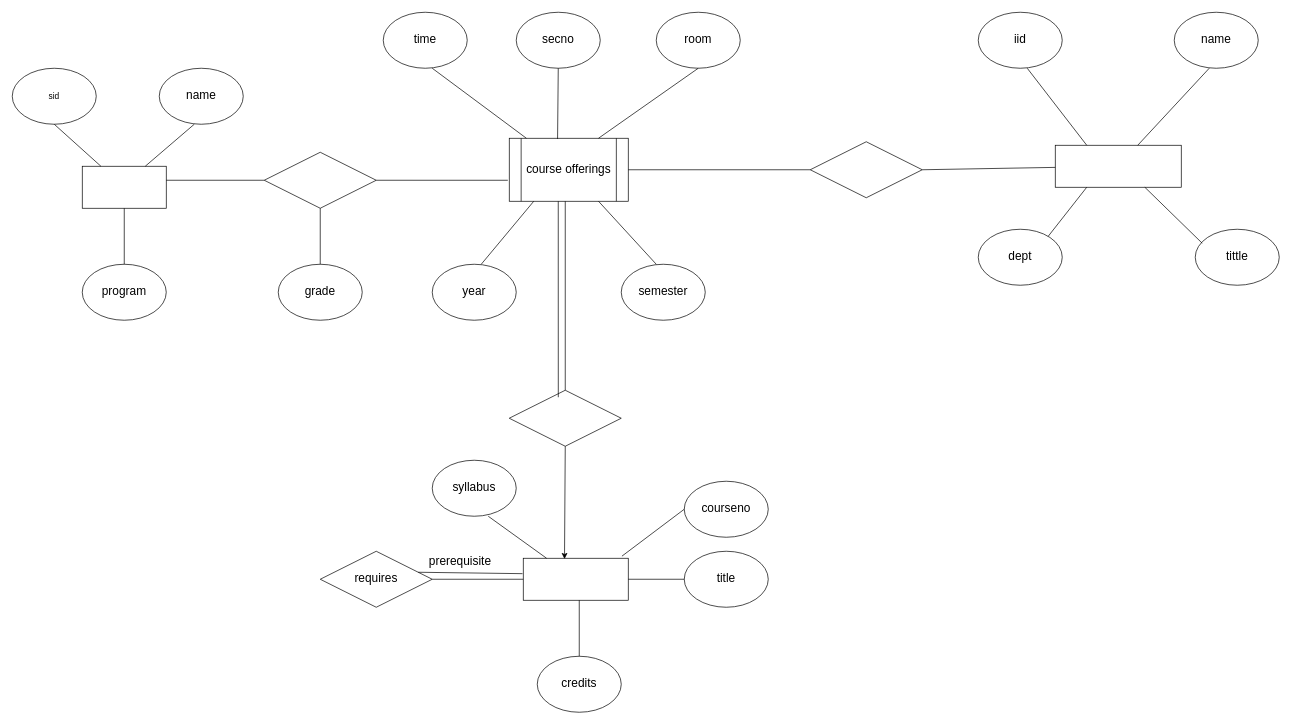
Image size: 1292x725. Some labels were removed from this diagram. Each missing label, with the box of its shape:
course: (523, 558, 628, 600)
enrols: (264, 152, 376, 208)
instructor: (1055, 145, 1181, 187)
is offered: (509, 390, 621, 446)
student: (82, 166, 166, 208)
teacher: (810, 141, 922, 198)
